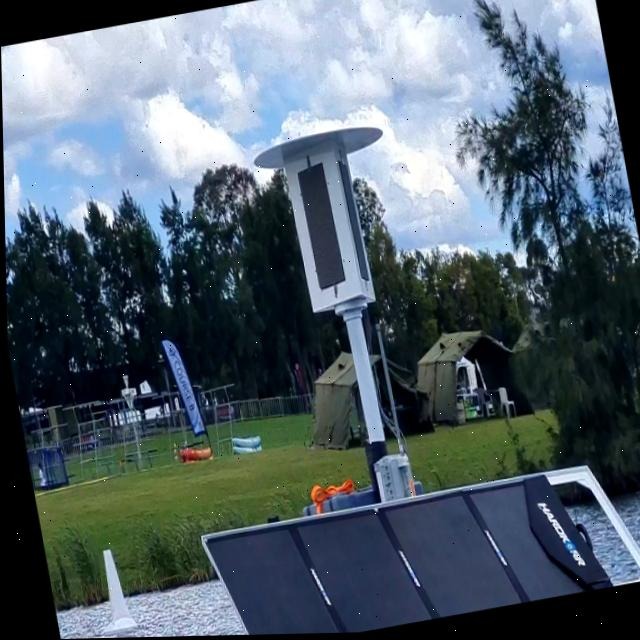led: (286, 155, 354, 304)
